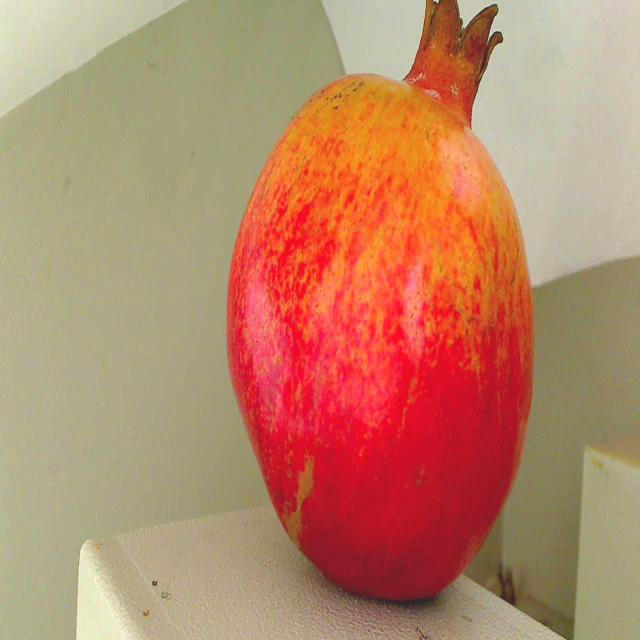pomegranate: (215, 0, 545, 625)
